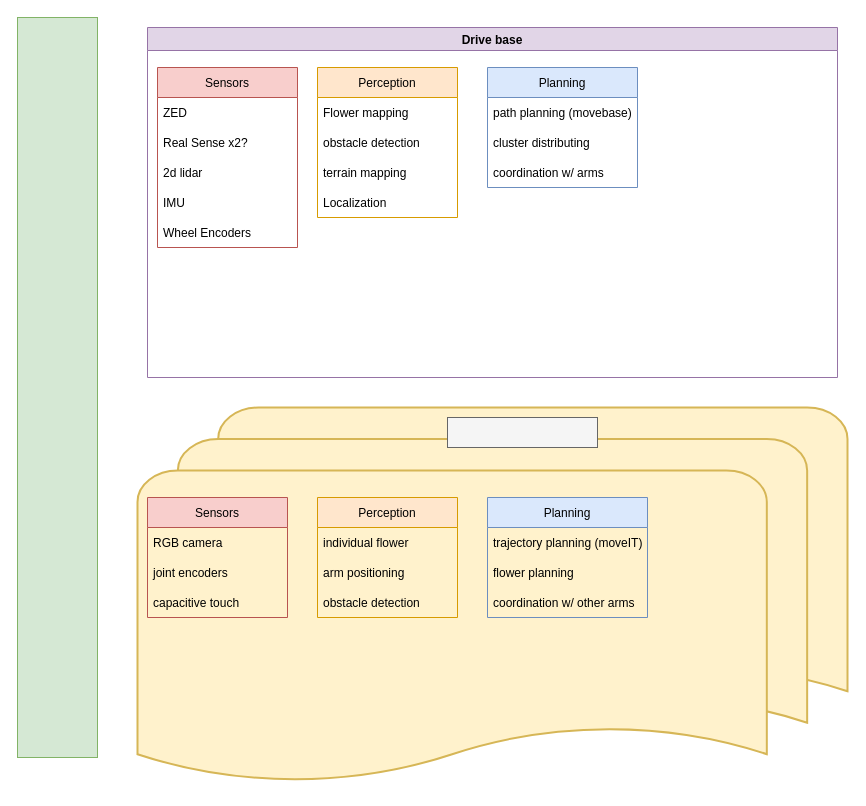
Some shapes in this 866 by 806 pixel diagram are drawn without their labels. Here are the shapes that lost their labels. From the top down, the centre of each, then its label:
At (57,387): "Environment".
At (522,432): "Stickbug Arms".
